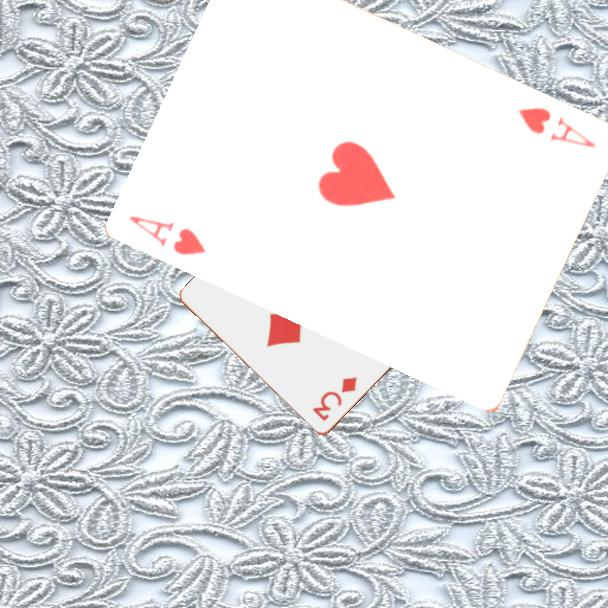d03: (309, 373, 360, 425)
h01: (515, 103, 599, 151), (126, 212, 210, 258)
